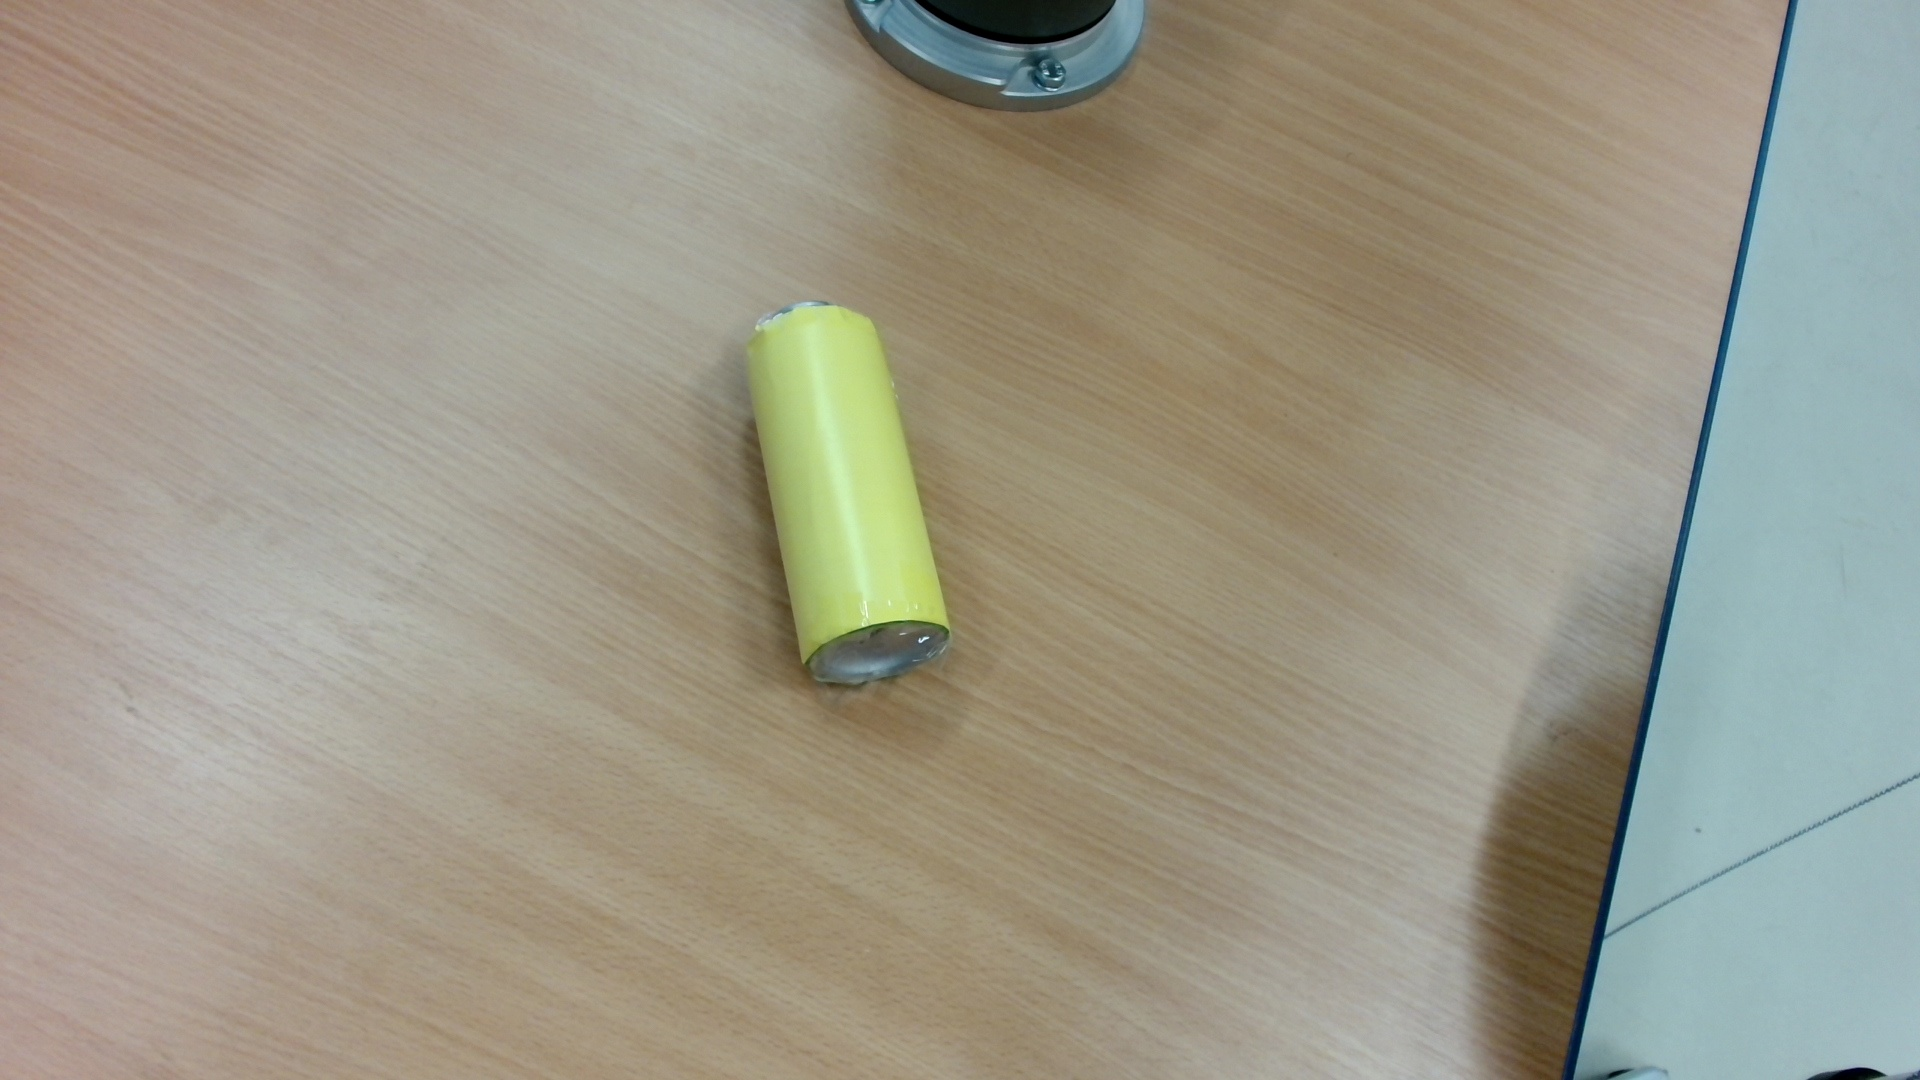Cylinder: (729, 293, 978, 703)
